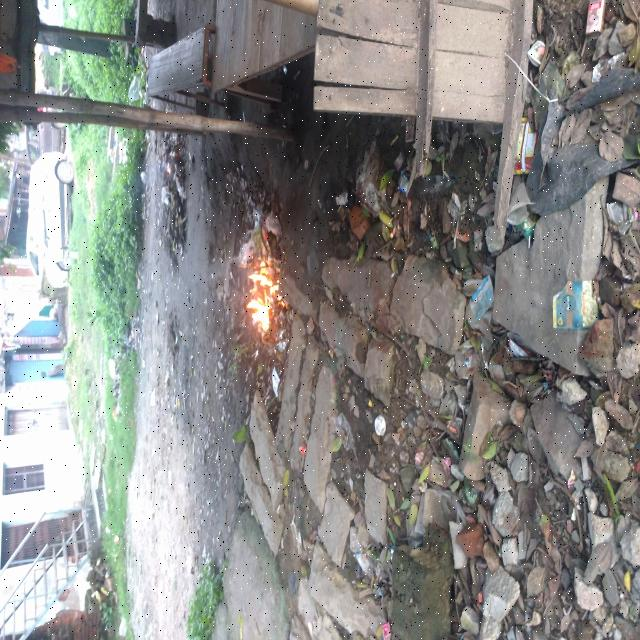fire: (241, 247, 286, 345)
